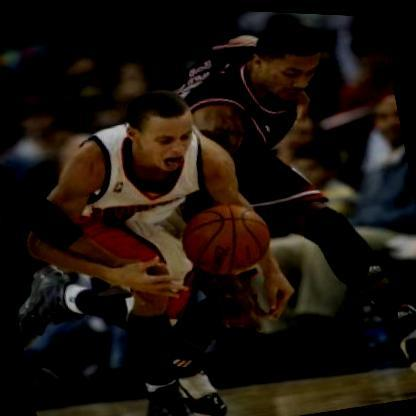basketball: (178, 192, 274, 280)
